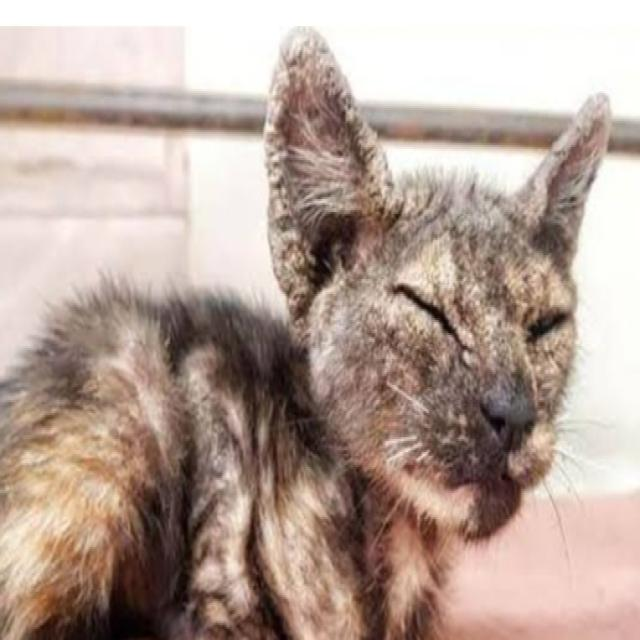cat-scabies: (270, 174, 304, 298), (449, 231, 498, 299), (270, 31, 311, 105), (408, 187, 446, 236), (342, 94, 360, 159)
